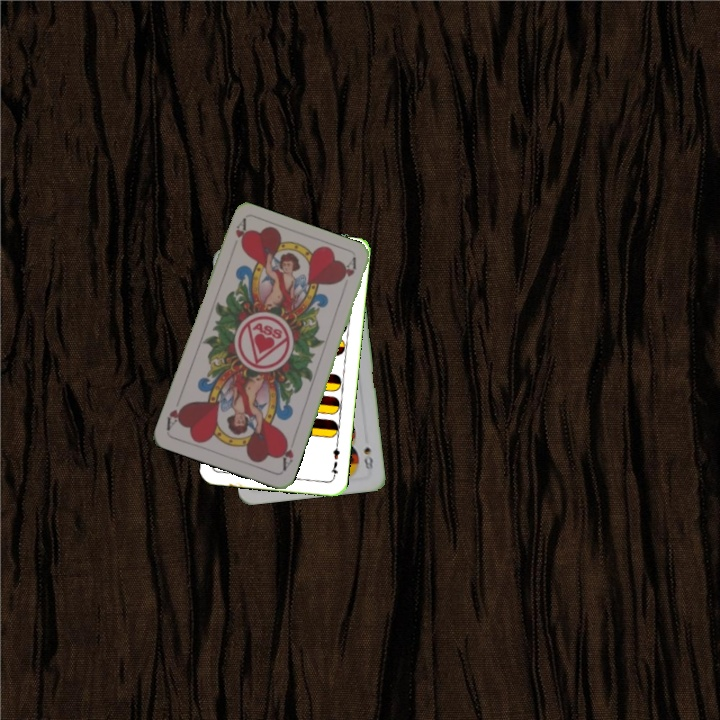E7: (327, 440, 342, 480)
HA: (276, 434, 296, 474), (231, 216, 249, 250)
S8: (360, 443, 375, 475)
